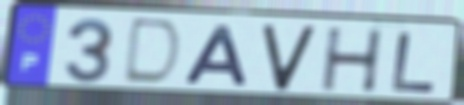3: (62, 16, 114, 85)
A: (181, 23, 252, 89)
D: (119, 17, 186, 89)
H: (320, 26, 386, 94)
L: (389, 30, 441, 94)
V: (259, 23, 319, 93)
